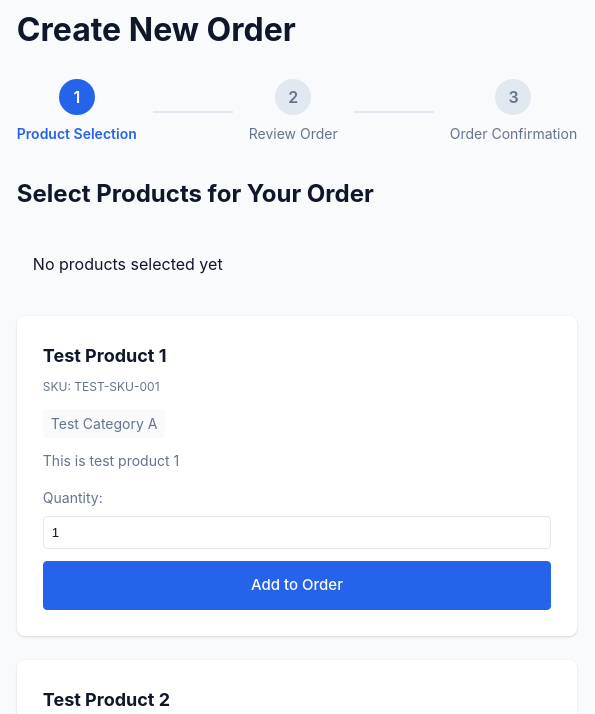
Scenario: OrderCreate › should allow removing a product from the order
Expected: the heading "Select Products for Your Order" is shown, 17,179 -> 374,208
Add first product
Click the button "Add to Order" at (297, 585), box 43,561 -> 551,610
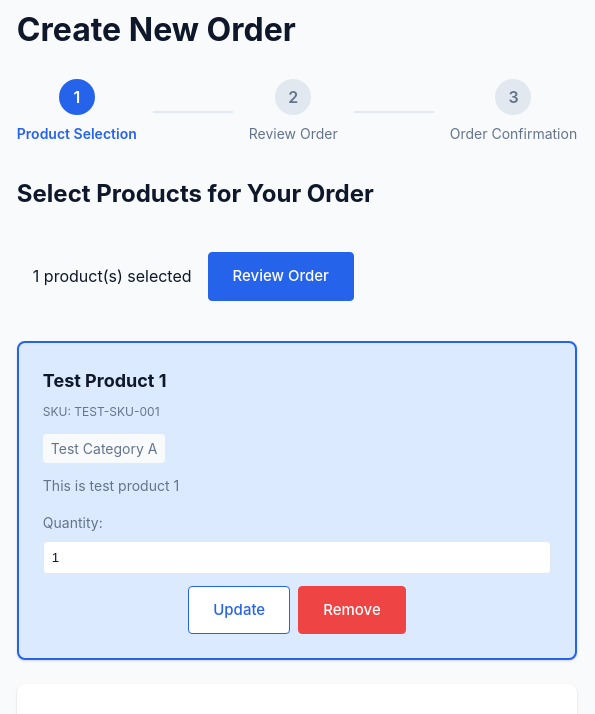
Result: the text "1 product(s) selected" is shown at 33,264 -> 192,288
Remove the product
Click the button "Remove" at (352, 610), box 298,586 -> 406,634
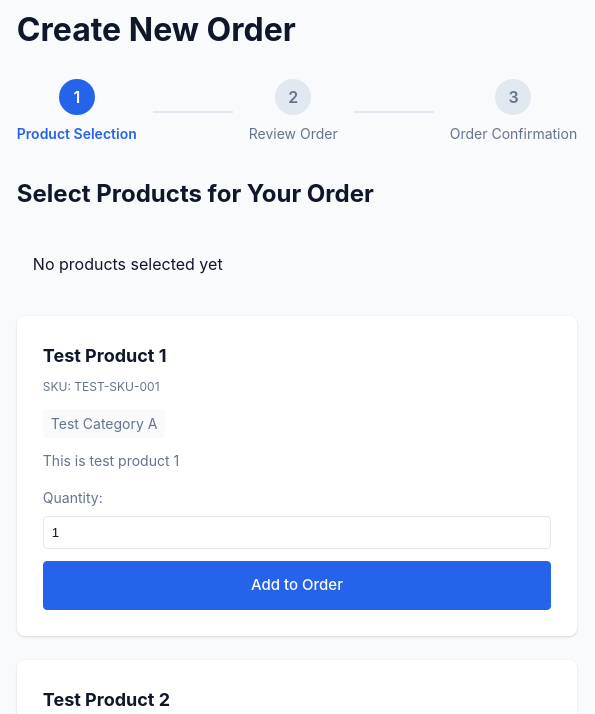
Result: the text "No products selected yet" is shown at 33,252 -> 223,276
